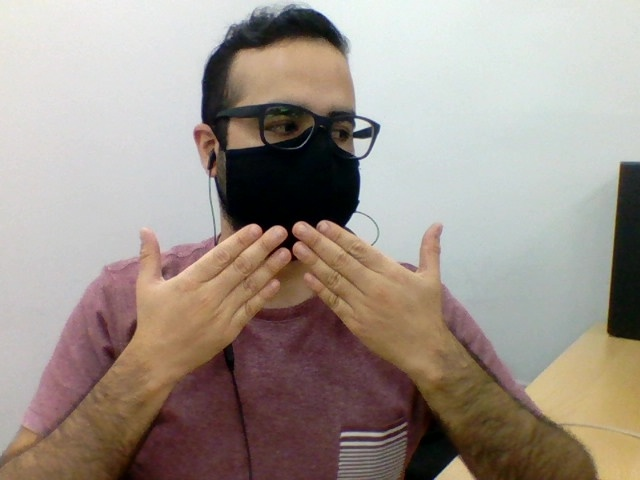ThankYou: (134, 218, 446, 382)
